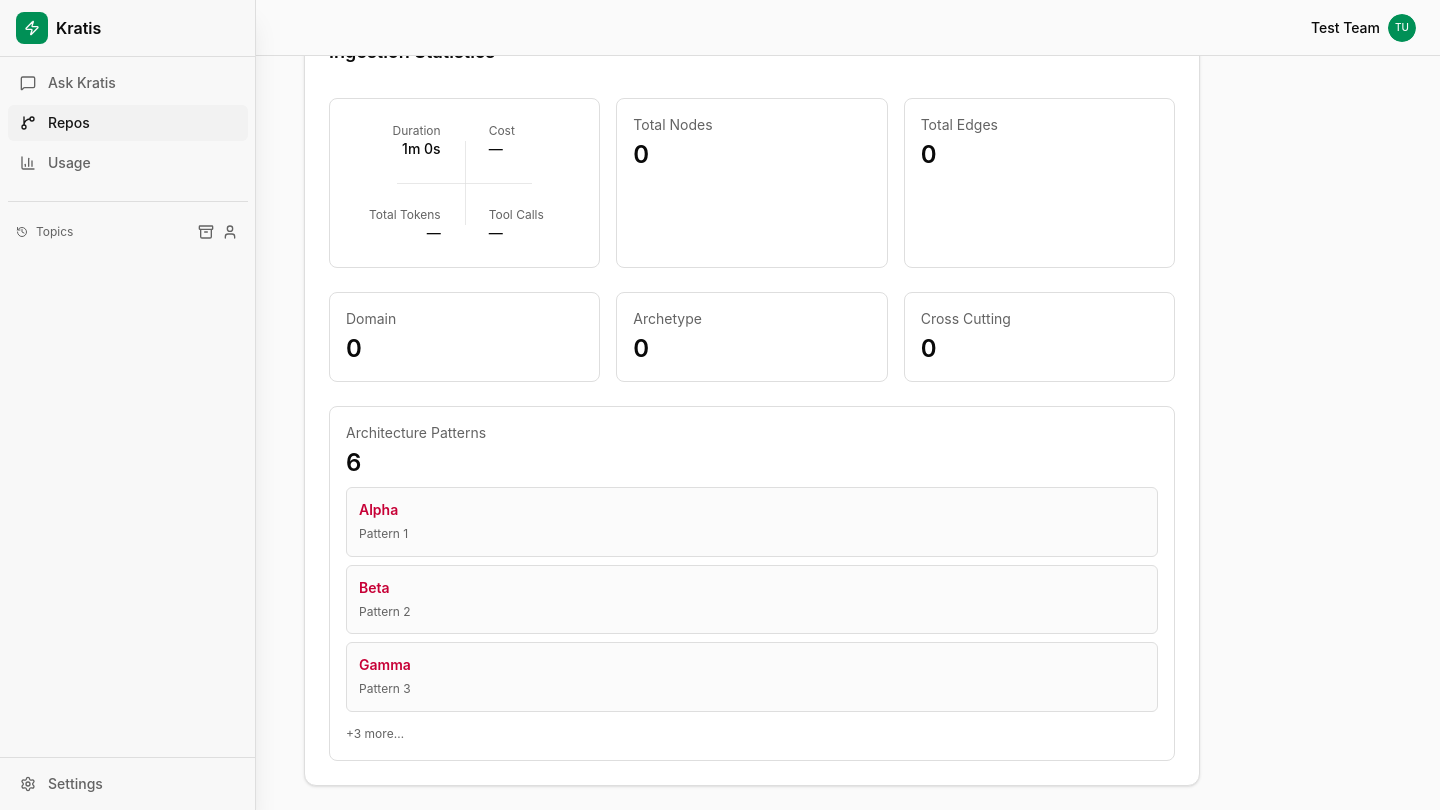
Repository Drilldown - Dimension Categories & Wiki Pages › toggles architecture pattern list show more/less
The image size is (1440, 810).
(page scrolled)
Check: the text "Architecture Patterns" is shown, box [346,424,486,441]
Click the button "+3 more…" at (375, 734), box [346,726,404,742]
(page scrolled)
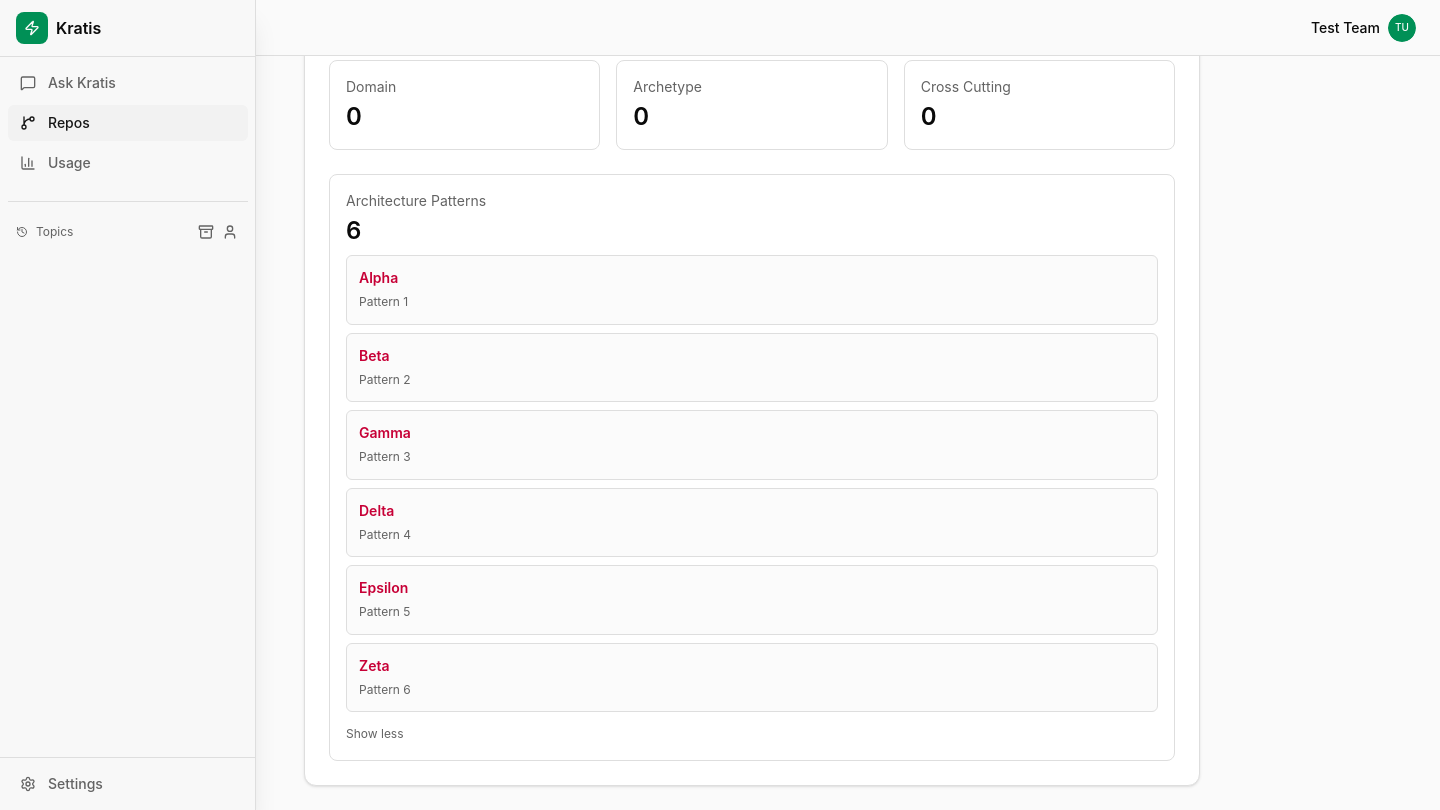
Check: the button "Show less" is shown
Clicking "Show less" should collapse back to the truncated list
Click the button "Show less" at (375, 734), box [346,726,404,742]
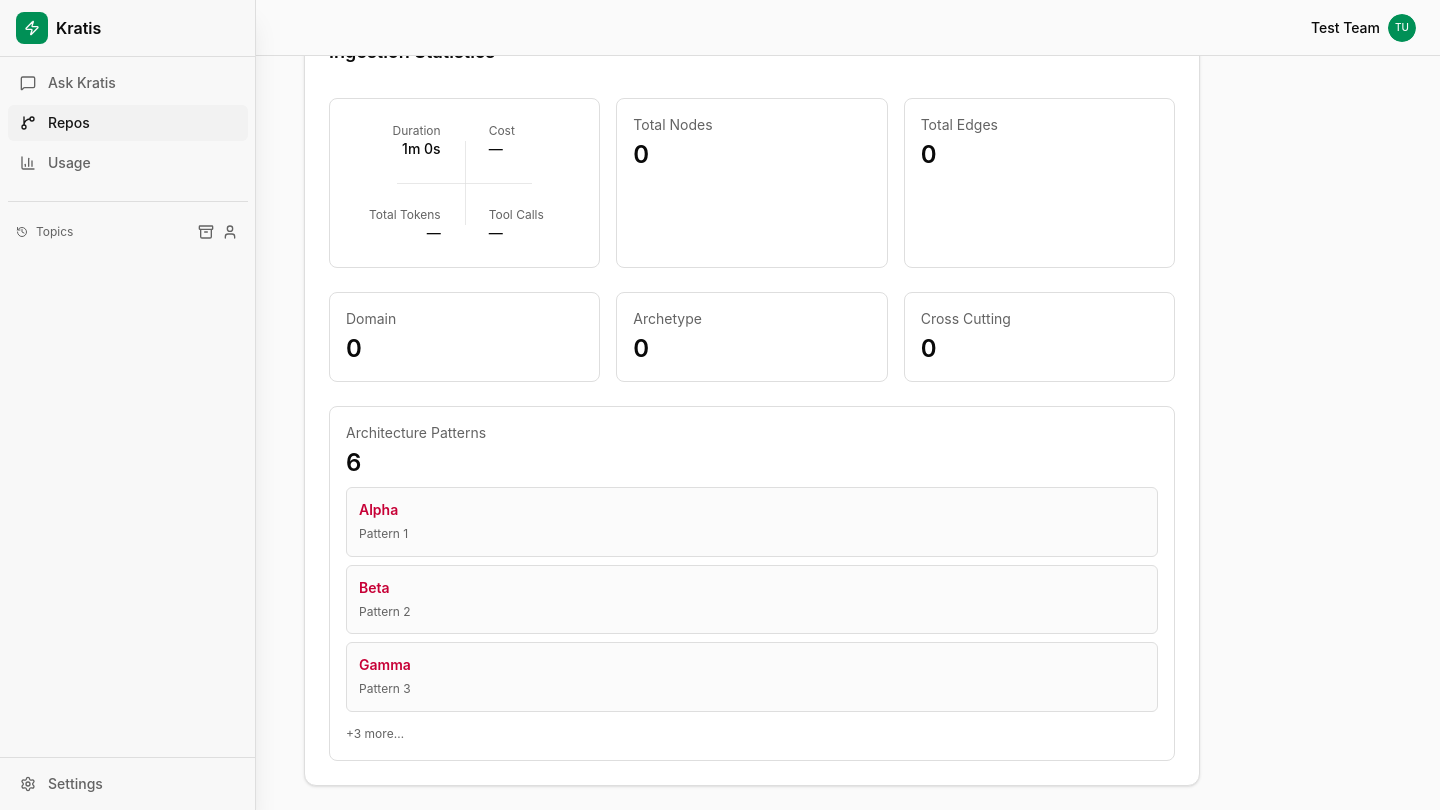
Check: the button "+3 more…" is shown, box [346,726,404,742]
